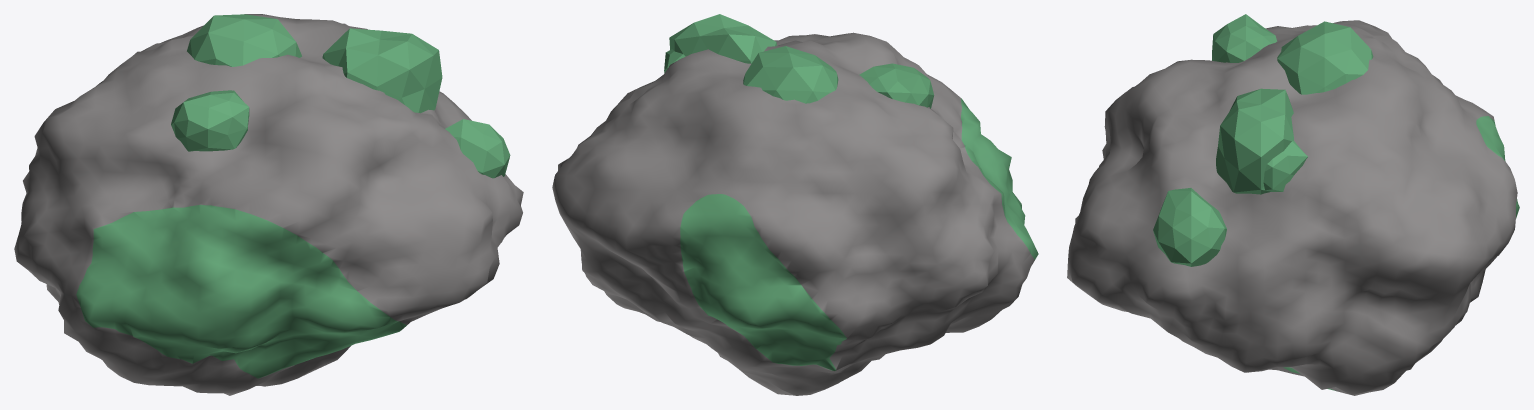
The model's file is garnierite_surface.glb.
The picture shows the model from 3 angles, left to right: view 1: azimuth 30°, elevation 25°; view 2: azimuth 150°, elevation 25°; view 3: azimuth 270°, elevation 25°; orthographic projection. The views are drawn at different scales.
Parts seen in each view (by area): view 1: garnierite_surface; view 2: garnierite_surface; view 3: garnierite_surface.
Part boxes in pixels (bbox=[...]): garnierite_surface: bbox=[14, 14, 523, 395]; garnierite_surface: bbox=[552, 14, 1038, 395]; garnierite_surface: bbox=[1067, 14, 1519, 395].
Size of the model in its own units: 1.14 by 0.8582 by 1.05.
